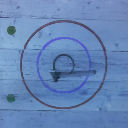Axe Tip: (50, 71, 62, 73)
